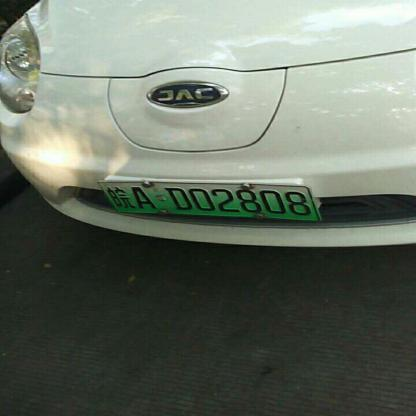lp: (99, 181, 319, 219)
